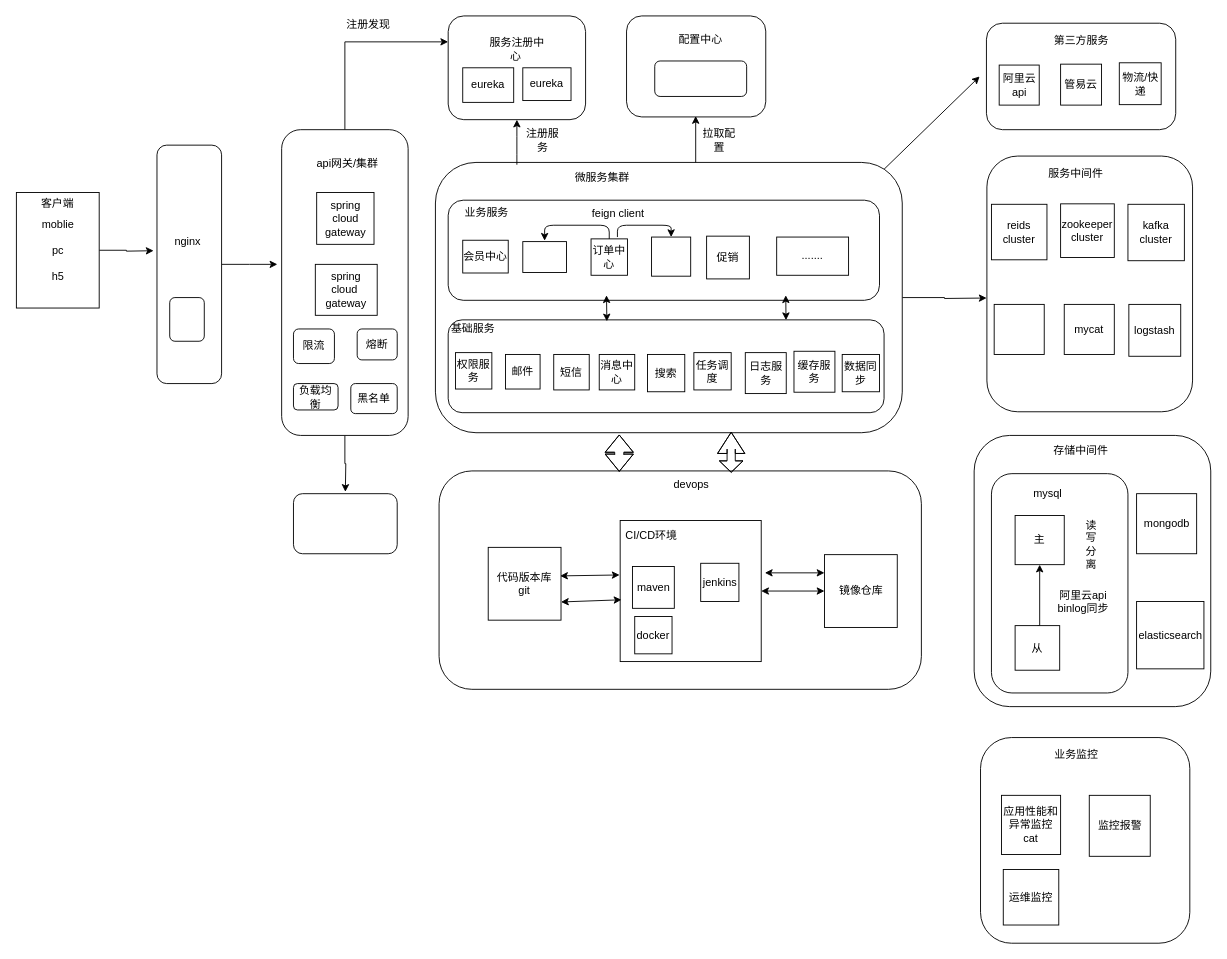
The diagram is 1227 pixels wide and 959 high, and some of its shapes have lost their labels. The centre of each missing label's shape, as x and y in pixels:
"Apollo" belongs at (700,78).
"auth 统一认证" belongs at (345,523).
"storm cluster" belongs at (1018,328).
"商品中心" belongs at (544,257).
"支付网关" belongs at (671,256).
"静态资源" belongs at (186,319).
